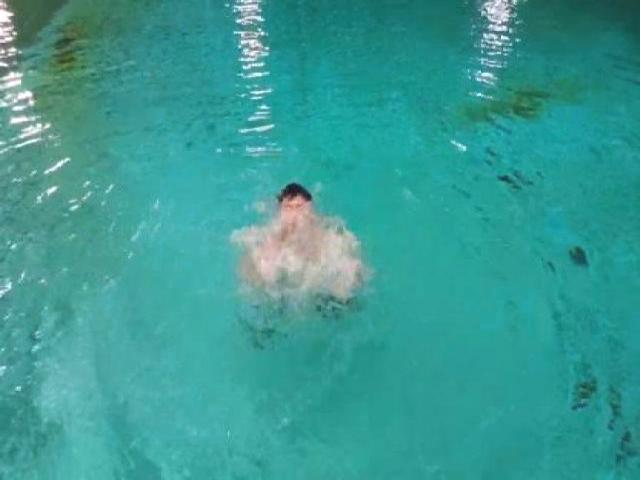drowning: (229, 176, 360, 302)
